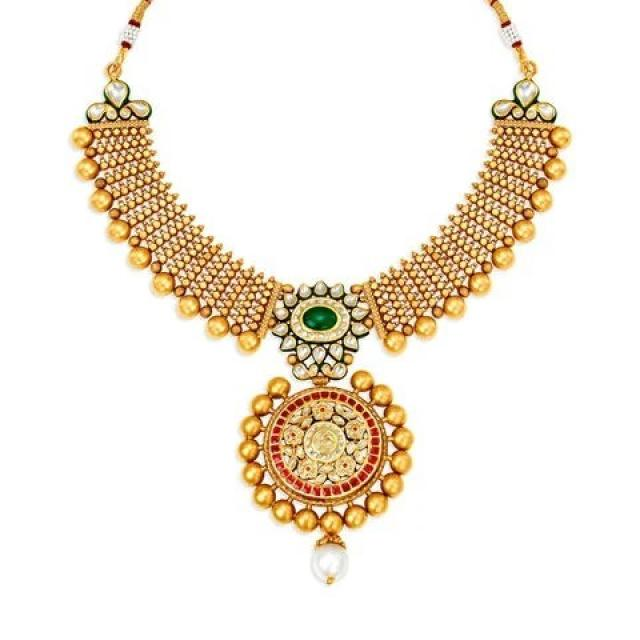missing gem: (314, 430, 336, 453)
